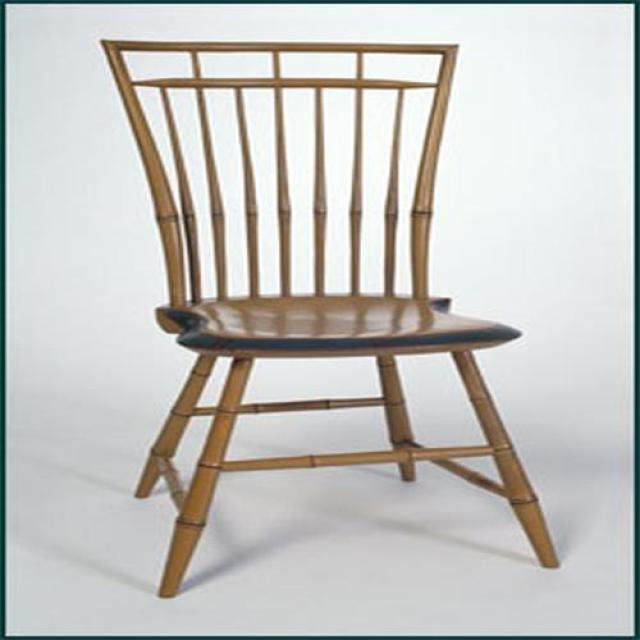chair: (105, 44, 558, 599)
